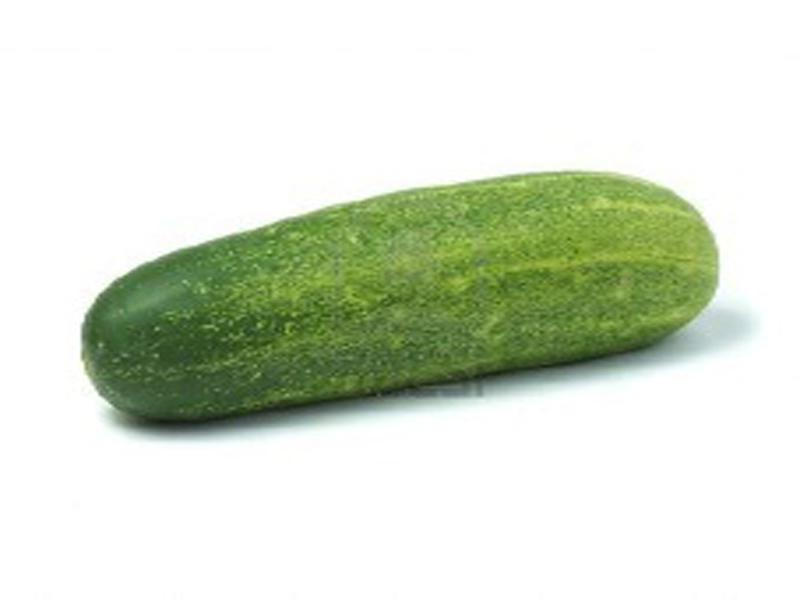Cucumber: (84, 172, 718, 423)
